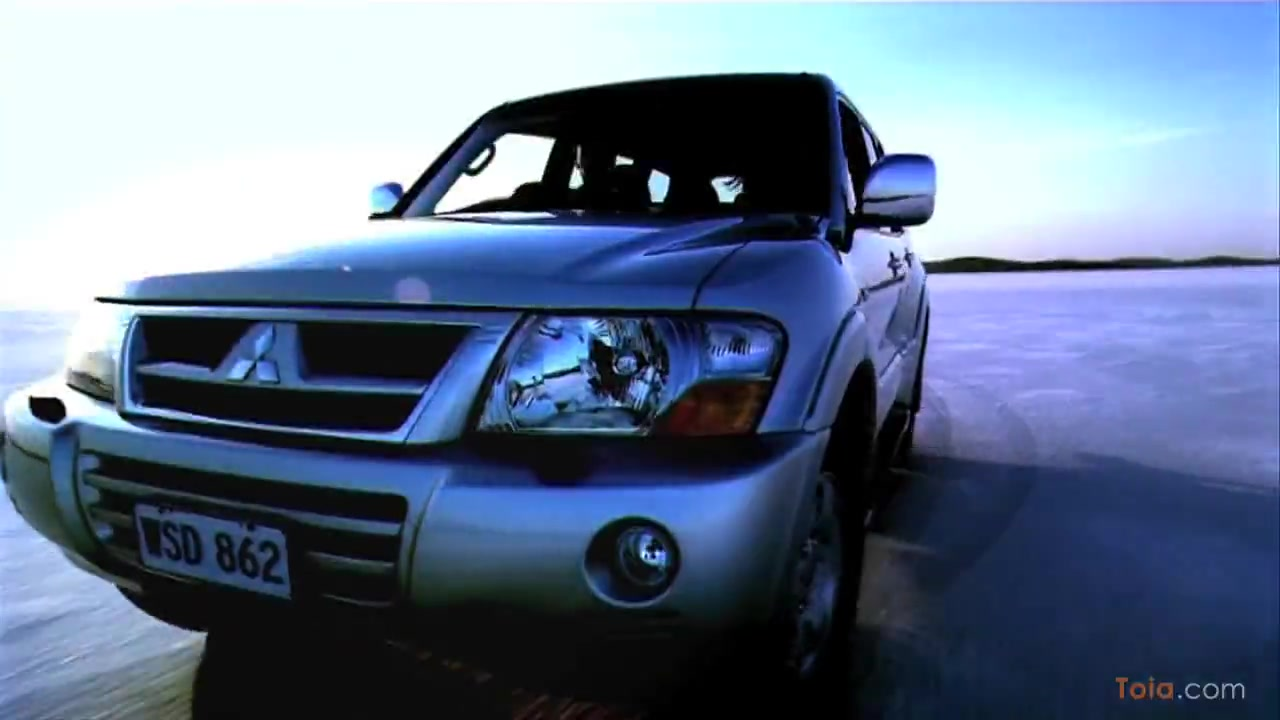car: (4, 72, 939, 704)
